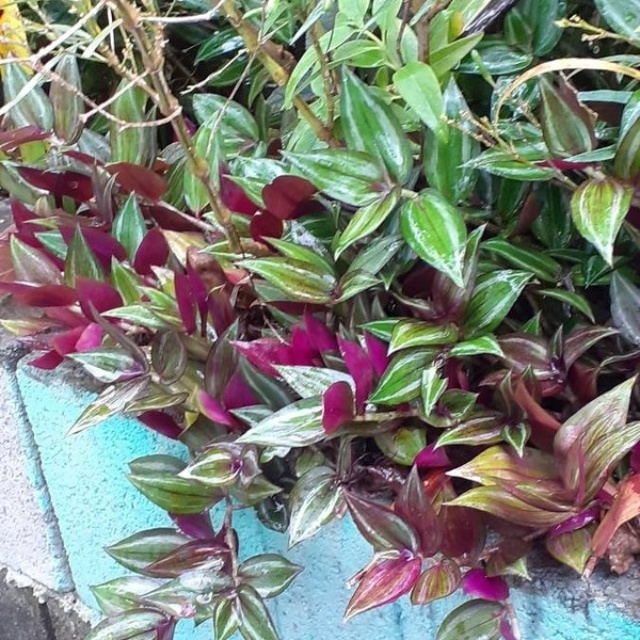obstacle: (63, 107, 573, 604)
